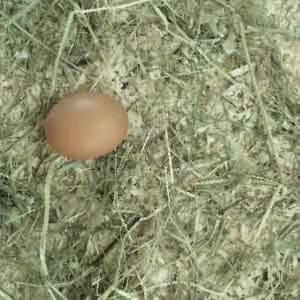egg: (44, 92, 127, 160)
